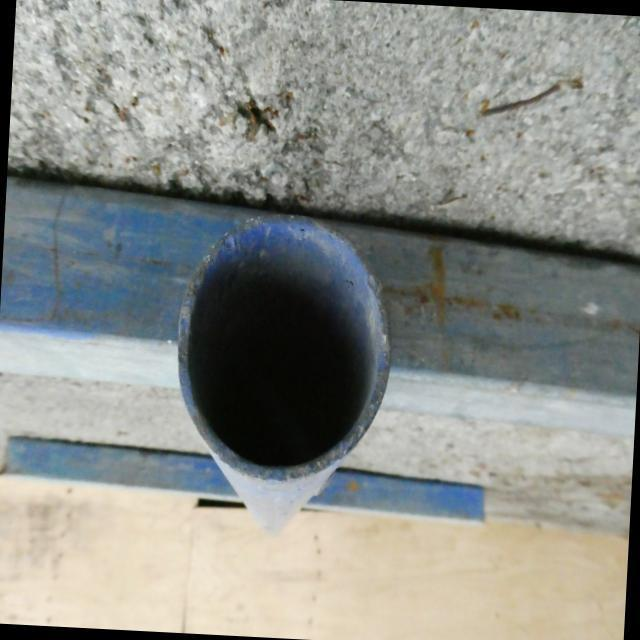pipe: (176, 216, 391, 481)
